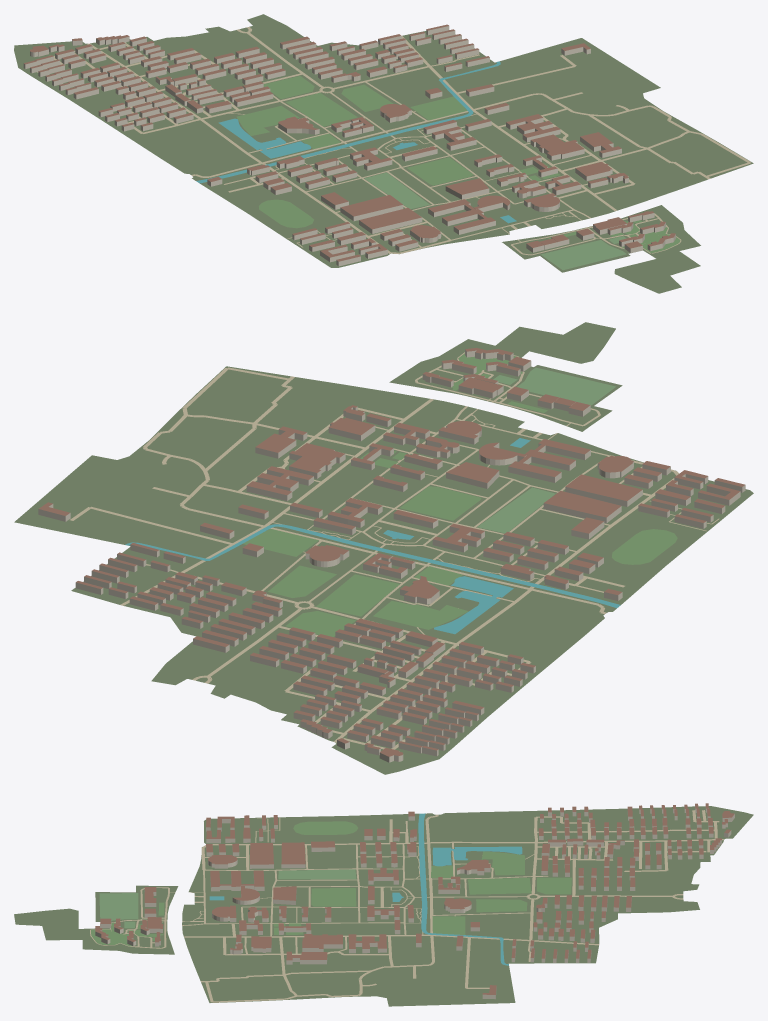
3 views of the same model, one above another, from view 1: azimuth 30°, elevation 25°; view 2: azimuth 150°, elevation 25°; view 3: azimuth 270°, elevation 25° (orthographic). The views are drawn at different scales.
Visible parts, largest first — view 1: campus-ground, buildings, environment (×4), roofs; view 2: campus-ground, buildings, environment (×4), roofs; view 3: campus-ground, environment (×4), roofs, buildings.
Boxes of the visible parts, box(x1,y1,x2,y2) form: campus-ground: box(14, 14, 753, 293); buildings: box(23, 26, 675, 266); environment (×4): box(37, 27, 750, 270); roofs: box(24, 24, 675, 261); campus-ground: box(14, 322, 753, 774); buildings: box(38, 349, 745, 762); environment (×4): box(70, 352, 719, 749); roofs: box(39, 348, 744, 756); campus-ground: box(14, 806, 753, 1006); environment (×4): box(90, 810, 723, 1002); roofs: box(95, 803, 734, 994); buildings: box(95, 805, 734, 999).
Bounding box in the file's own units: 1224 × 12.2 × 1909.
